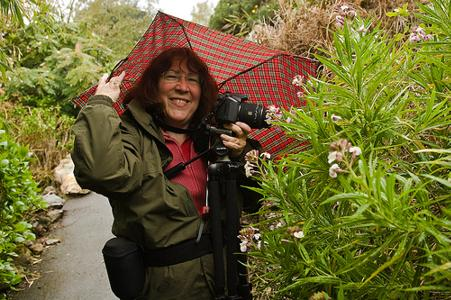person: (71, 48, 264, 300)
